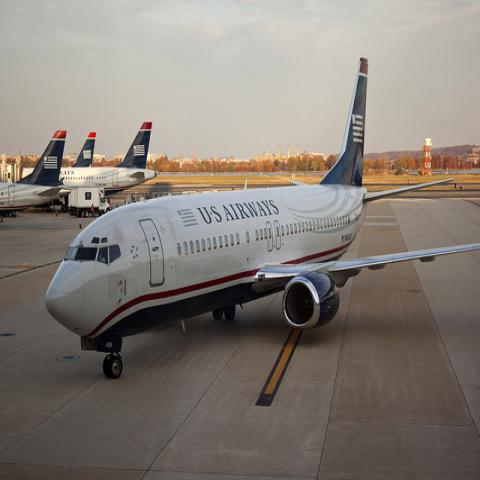truck: (68, 188, 110, 217)
